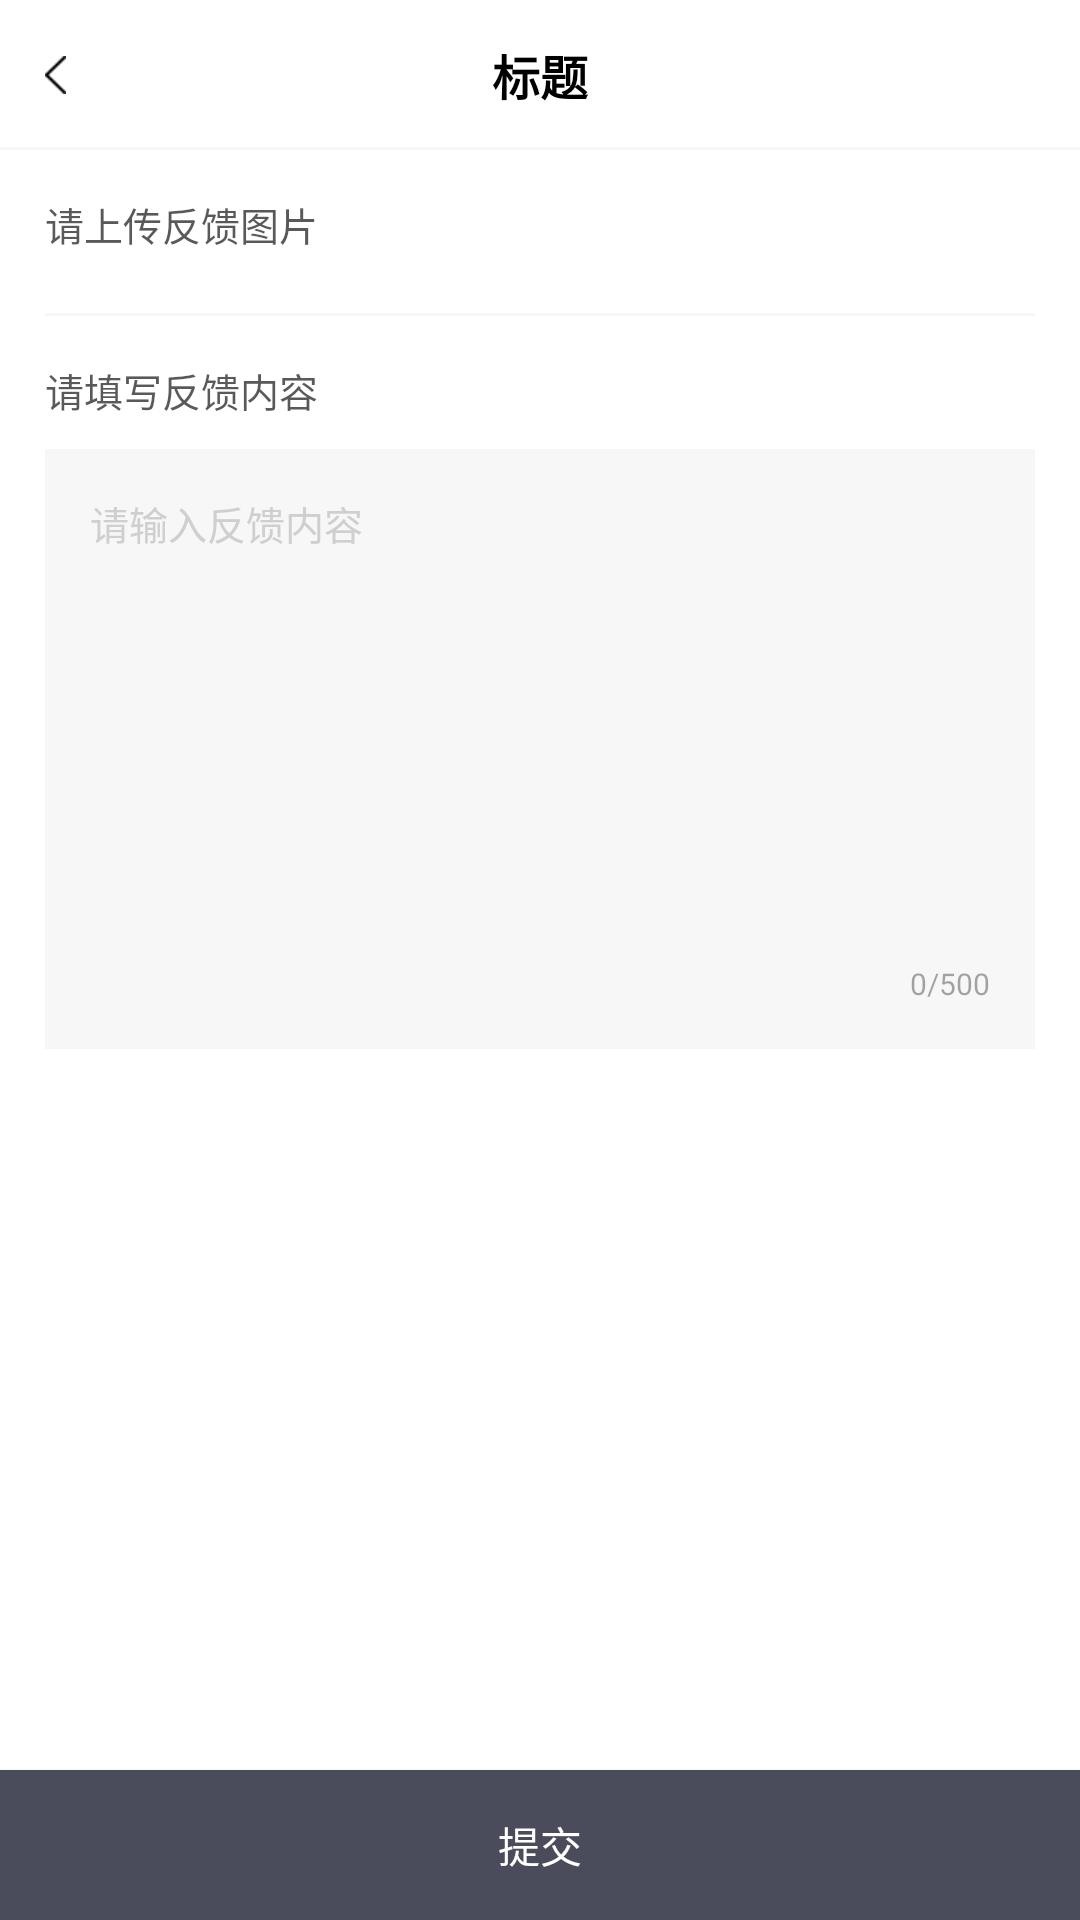

Named icons in this screenshot (1080px x 1920px) and their centers, [x,y]:
back: [55,75]
